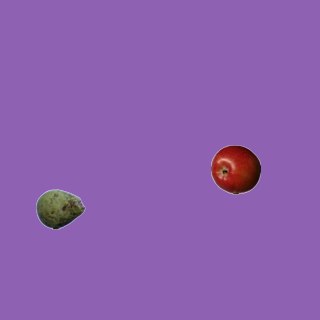Apple Braeburn: (210, 144, 260, 194)
Pear Stone: (35, 184, 85, 234)
